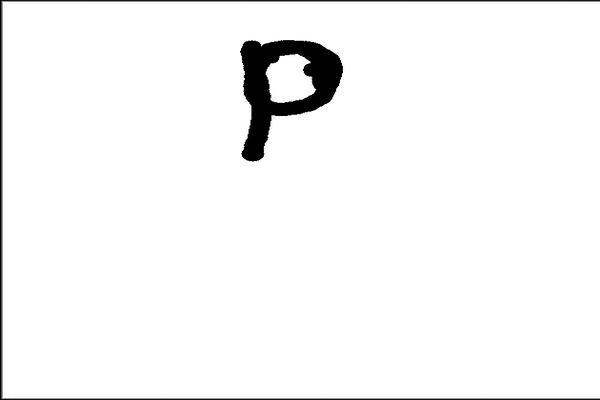P: (219, 31, 353, 173)
